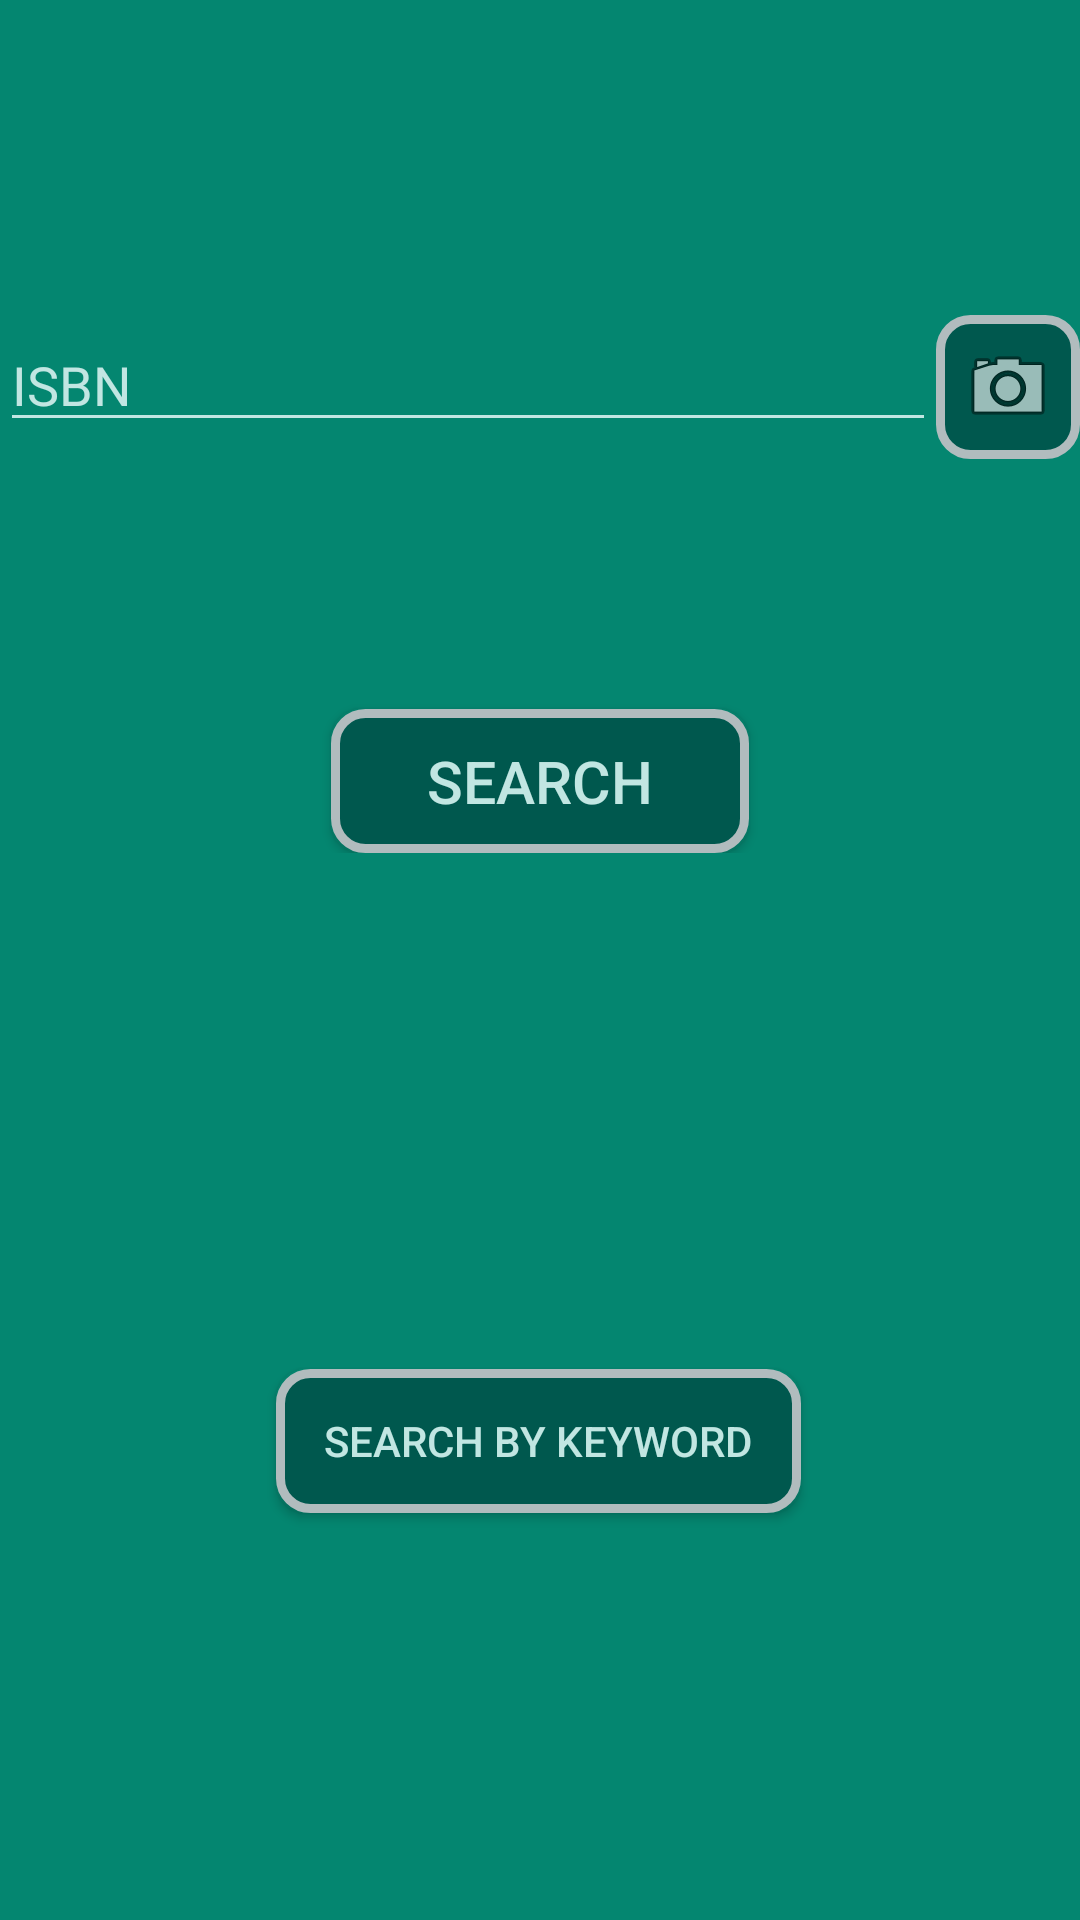

Where icons sit on this 1080 x 1920 app screen, as (x1, y1, x2, y2):
camera: (936, 315, 1080, 459)
